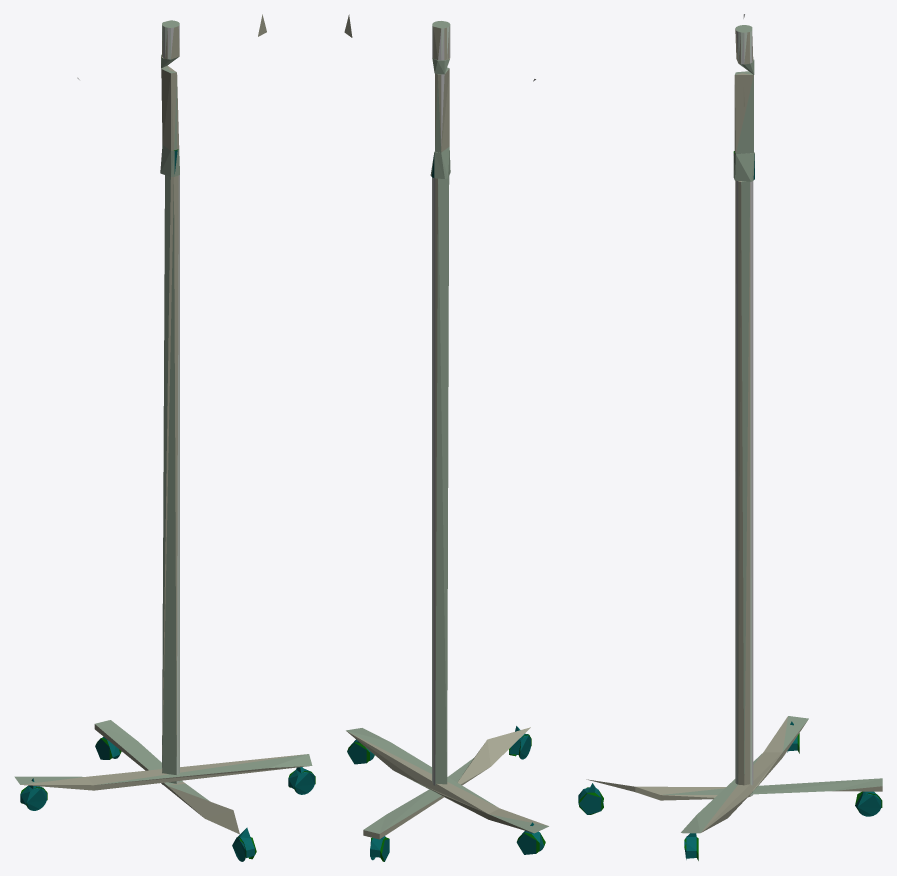
Rendered from iv-stand-lite.glb.
3 renders of one model, left to right at view 1: azimuth 30°, elevation 25°; view 2: azimuth 150°, elevation 25°; view 3: azimuth 270°, elevation 25°, orthographic.
Visible parts, largest first — view 1: Cylinder001_Material #3_0, Wheel 1_Material #2_0; view 2: Cylinder001_Material #3_0, Wheel 1_Material #2_0; view 3: Cylinder001_Material #3_0, Wheel 1_Material #2_0.
Part boxes in pixels (box(x1,y1,x2,y2)): Cylinder001_Material #3_0: box(14, 14, 312, 834); Wheel 1_Material #2_0: box(20, 736, 315, 861); Cylinder001_Material #3_0: box(344, 14, 548, 839); Wheel 1_Material #2_0: box(347, 726, 545, 861); Cylinder001_Material #3_0: box(586, 14, 882, 833); Wheel 1_Material #2_0: box(578, 721, 882, 860).
Size of the model in its own units: 6161 by 18728 by 6568.
